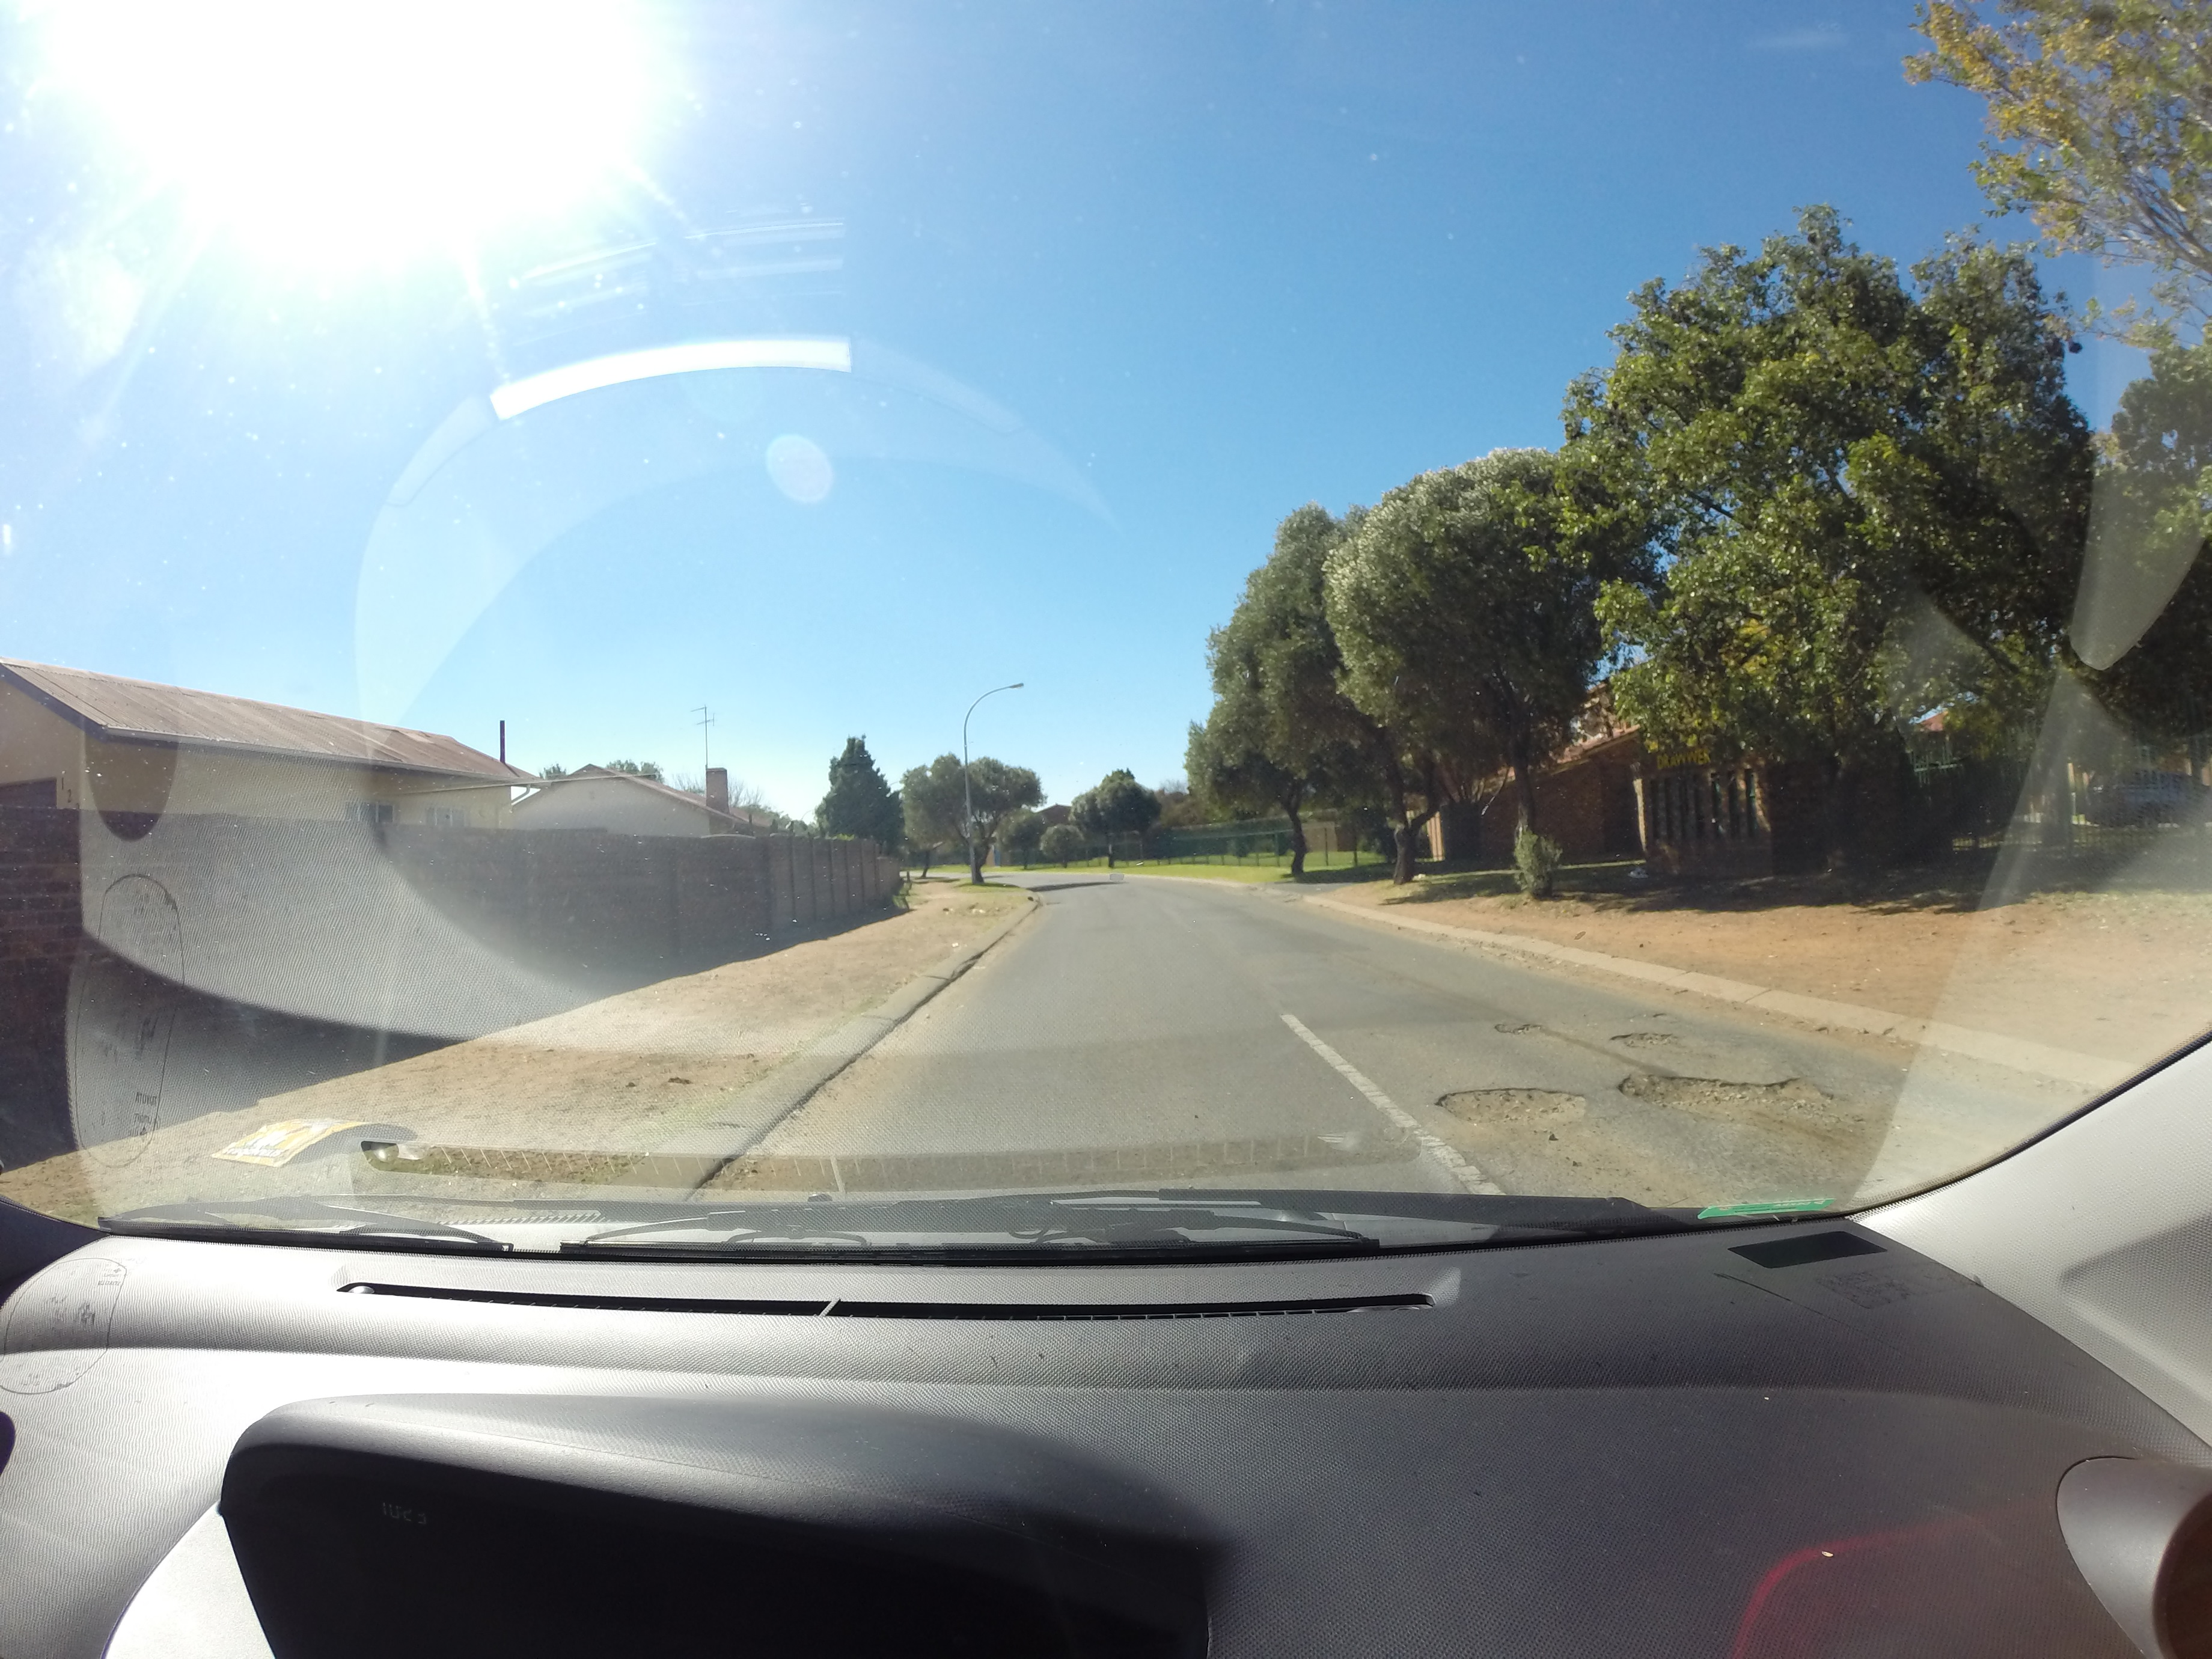pothole: (1578, 1002, 1932, 1195), (1383, 1023, 1627, 1168)
